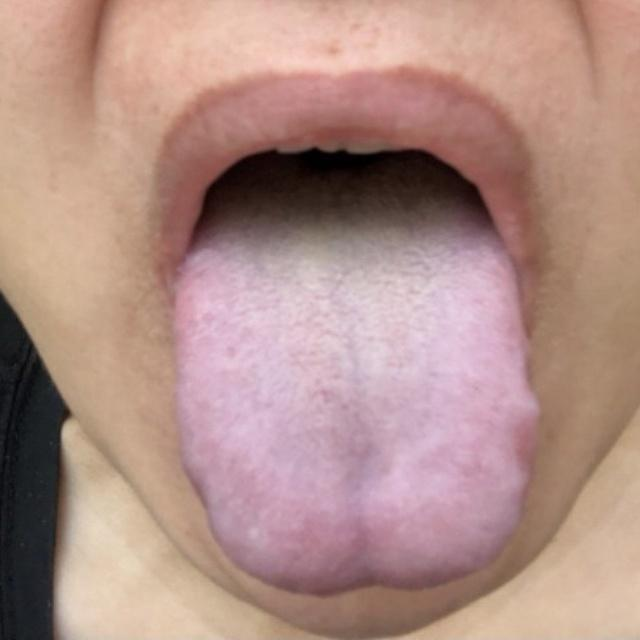baitaishe: (175, 234, 543, 598)
chihenshe: (508, 337, 544, 521)
xinfeiao: (323, 565, 423, 598)
